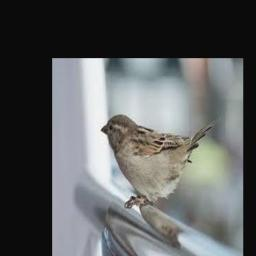Sparrow: (101, 115, 216, 208)
